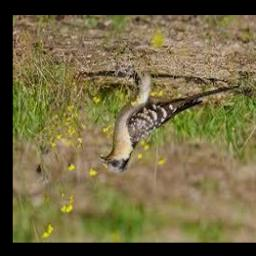Cuckoo: (100, 71, 238, 173)
